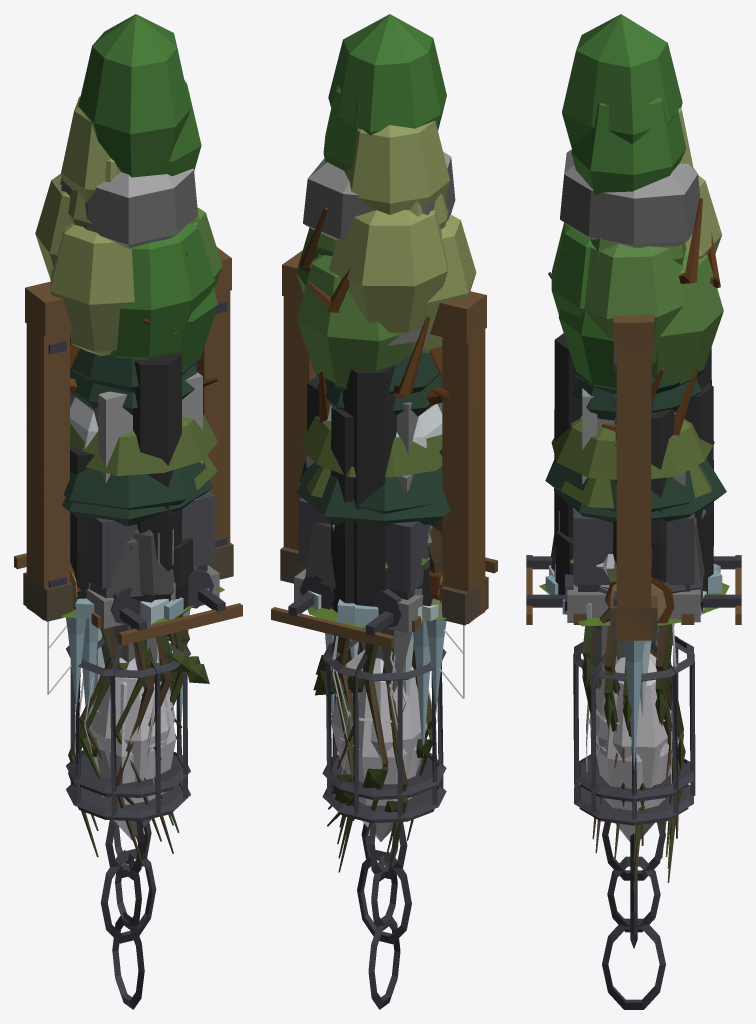
The model's file is props.glb.
3 views of the same model, side by side, from view 1: azimuth 30°, elevation 25°; view 2: azimuth 150°, elevation 25°; view 3: azimuth 270°, elevation 25° (orthographic).
Parts seen in each view (by area): view 1: mines_support_frame_a, meadow_tree_tall_a, mines_support_frame_b, meadow_tree_round_a, meadow_tree_round_b, peaks_pine_snow_a, badlands_sandstone_pillar_b, volcanic_basalt_columns_a, mines_ore_cart_a, abyss_cage_a, abyss_cage_b, swamp_glow_mushroom_b (+20 smaller); view 2: mines_support_frame_a, meadow_tree_tall_a, meadow_tree_round_a, meadow_tree_round_b, volcanic_basalt_columns_b, mines_support_frame_b, mines_ore_cart_a, abyss_cage_a, peaks_pine_snow_a, abyss_cage_b, peaks_pine_snow_b, badlands_sandstone_pillar_b (+24 smaller); view 3: mines_support_frame_a, meadow_tree_tall_a, meadow_tree_round_a, badlands_sandstone_pillar_b, mines_support_frame_b, meadow_tree_round_b, meadow_tree_tall_b, volcanic_basalt_columns_a, abyss_cage_a, mines_ore_cart_a, swamp_glow_mushroom_b, abyss_cage_b (+23 smaller).
Boxes of the visible parts, x1=… form: mines_support_frame_a: x1=23, y1=247, x2=233, y2=621; meadow_tree_tall_a: x1=61, y1=14, x2=202, y2=232; mines_support_frame_b: x1=23, y1=271, x2=233, y2=621; meadow_tree_round_a: x1=35, y1=174, x2=222, y2=359; meadow_tree_round_b: x1=50, y1=223, x2=217, y2=370; peaks_pine_snow_a: x1=63, y1=349, x2=206, y2=509; badlands_sandstone_pillar_b: x1=61, y1=168, x2=197, y2=248; volcanic_basalt_columns_a: x1=70, y1=353, x2=182, y2=601; mines_ore_cart_a: x1=88, y1=491, x2=214, y2=624; abyss_cage_a: x1=66, y1=634, x2=190, y2=797; abyss_cage_b: x1=66, y1=634, x2=190, y2=821; swamp_glow_mushroom_b: x1=70, y1=414, x2=217, y2=475; mines_support_frame_a: x1=280, y1=250, x2=488, y2=624; meadow_tree_tall_a: x1=316, y1=14, x2=449, y2=255; meadow_tree_round_a: x1=296, y1=210, x2=448, y2=334; meadow_tree_round_b: x1=296, y1=215, x2=476, y2=384; volcanic_basalt_columns_b: x1=307, y1=365, x2=442, y2=606; mines_support_frame_b: x1=280, y1=278, x2=486, y2=625; mines_ore_cart_a: x1=298, y1=498, x2=430, y2=628; abyss_cage_a: x1=322, y1=628, x2=446, y2=799; peaks_pine_snow_a: x1=299, y1=353, x2=446, y2=513; abyss_cage_b: x1=322, y1=628, x2=446, y2=823; peaks_pine_snow_b: x1=296, y1=374, x2=450, y2=525; badlands_sandstone_pillar_b: x1=303, y1=151, x2=455, y2=240; mines_support_frame_a: x1=610, y1=314, x2=657, y2=640; meadow_tree_tall_a: x1=562, y1=14, x2=693, y2=265; meadow_tree_round_a: x1=551, y1=175, x2=721, y2=364; badlands_sandstone_pillar_b: x1=560, y1=149, x2=701, y2=247; mines_support_frame_b: x1=611, y1=323, x2=657, y2=639; meadow_tree_round_b: x1=558, y1=254, x2=723, y2=389; meadow_tree_tall_b: x1=571, y1=88, x2=686, y2=195; volcanic_basalt_columns_a: x1=554, y1=333, x2=713, y2=593; abyss_cage_a: x1=573, y1=631, x2=695, y2=801; mines_ore_cart_a: x1=565, y1=510, x2=702, y2=612; swamp_glow_mushroom_b: x1=551, y1=418, x2=714, y2=479; abyss_cage_b: x1=573, y1=636, x2=695, y2=825.
Size of the model in its own units: 1 by 5.11 by 1.
